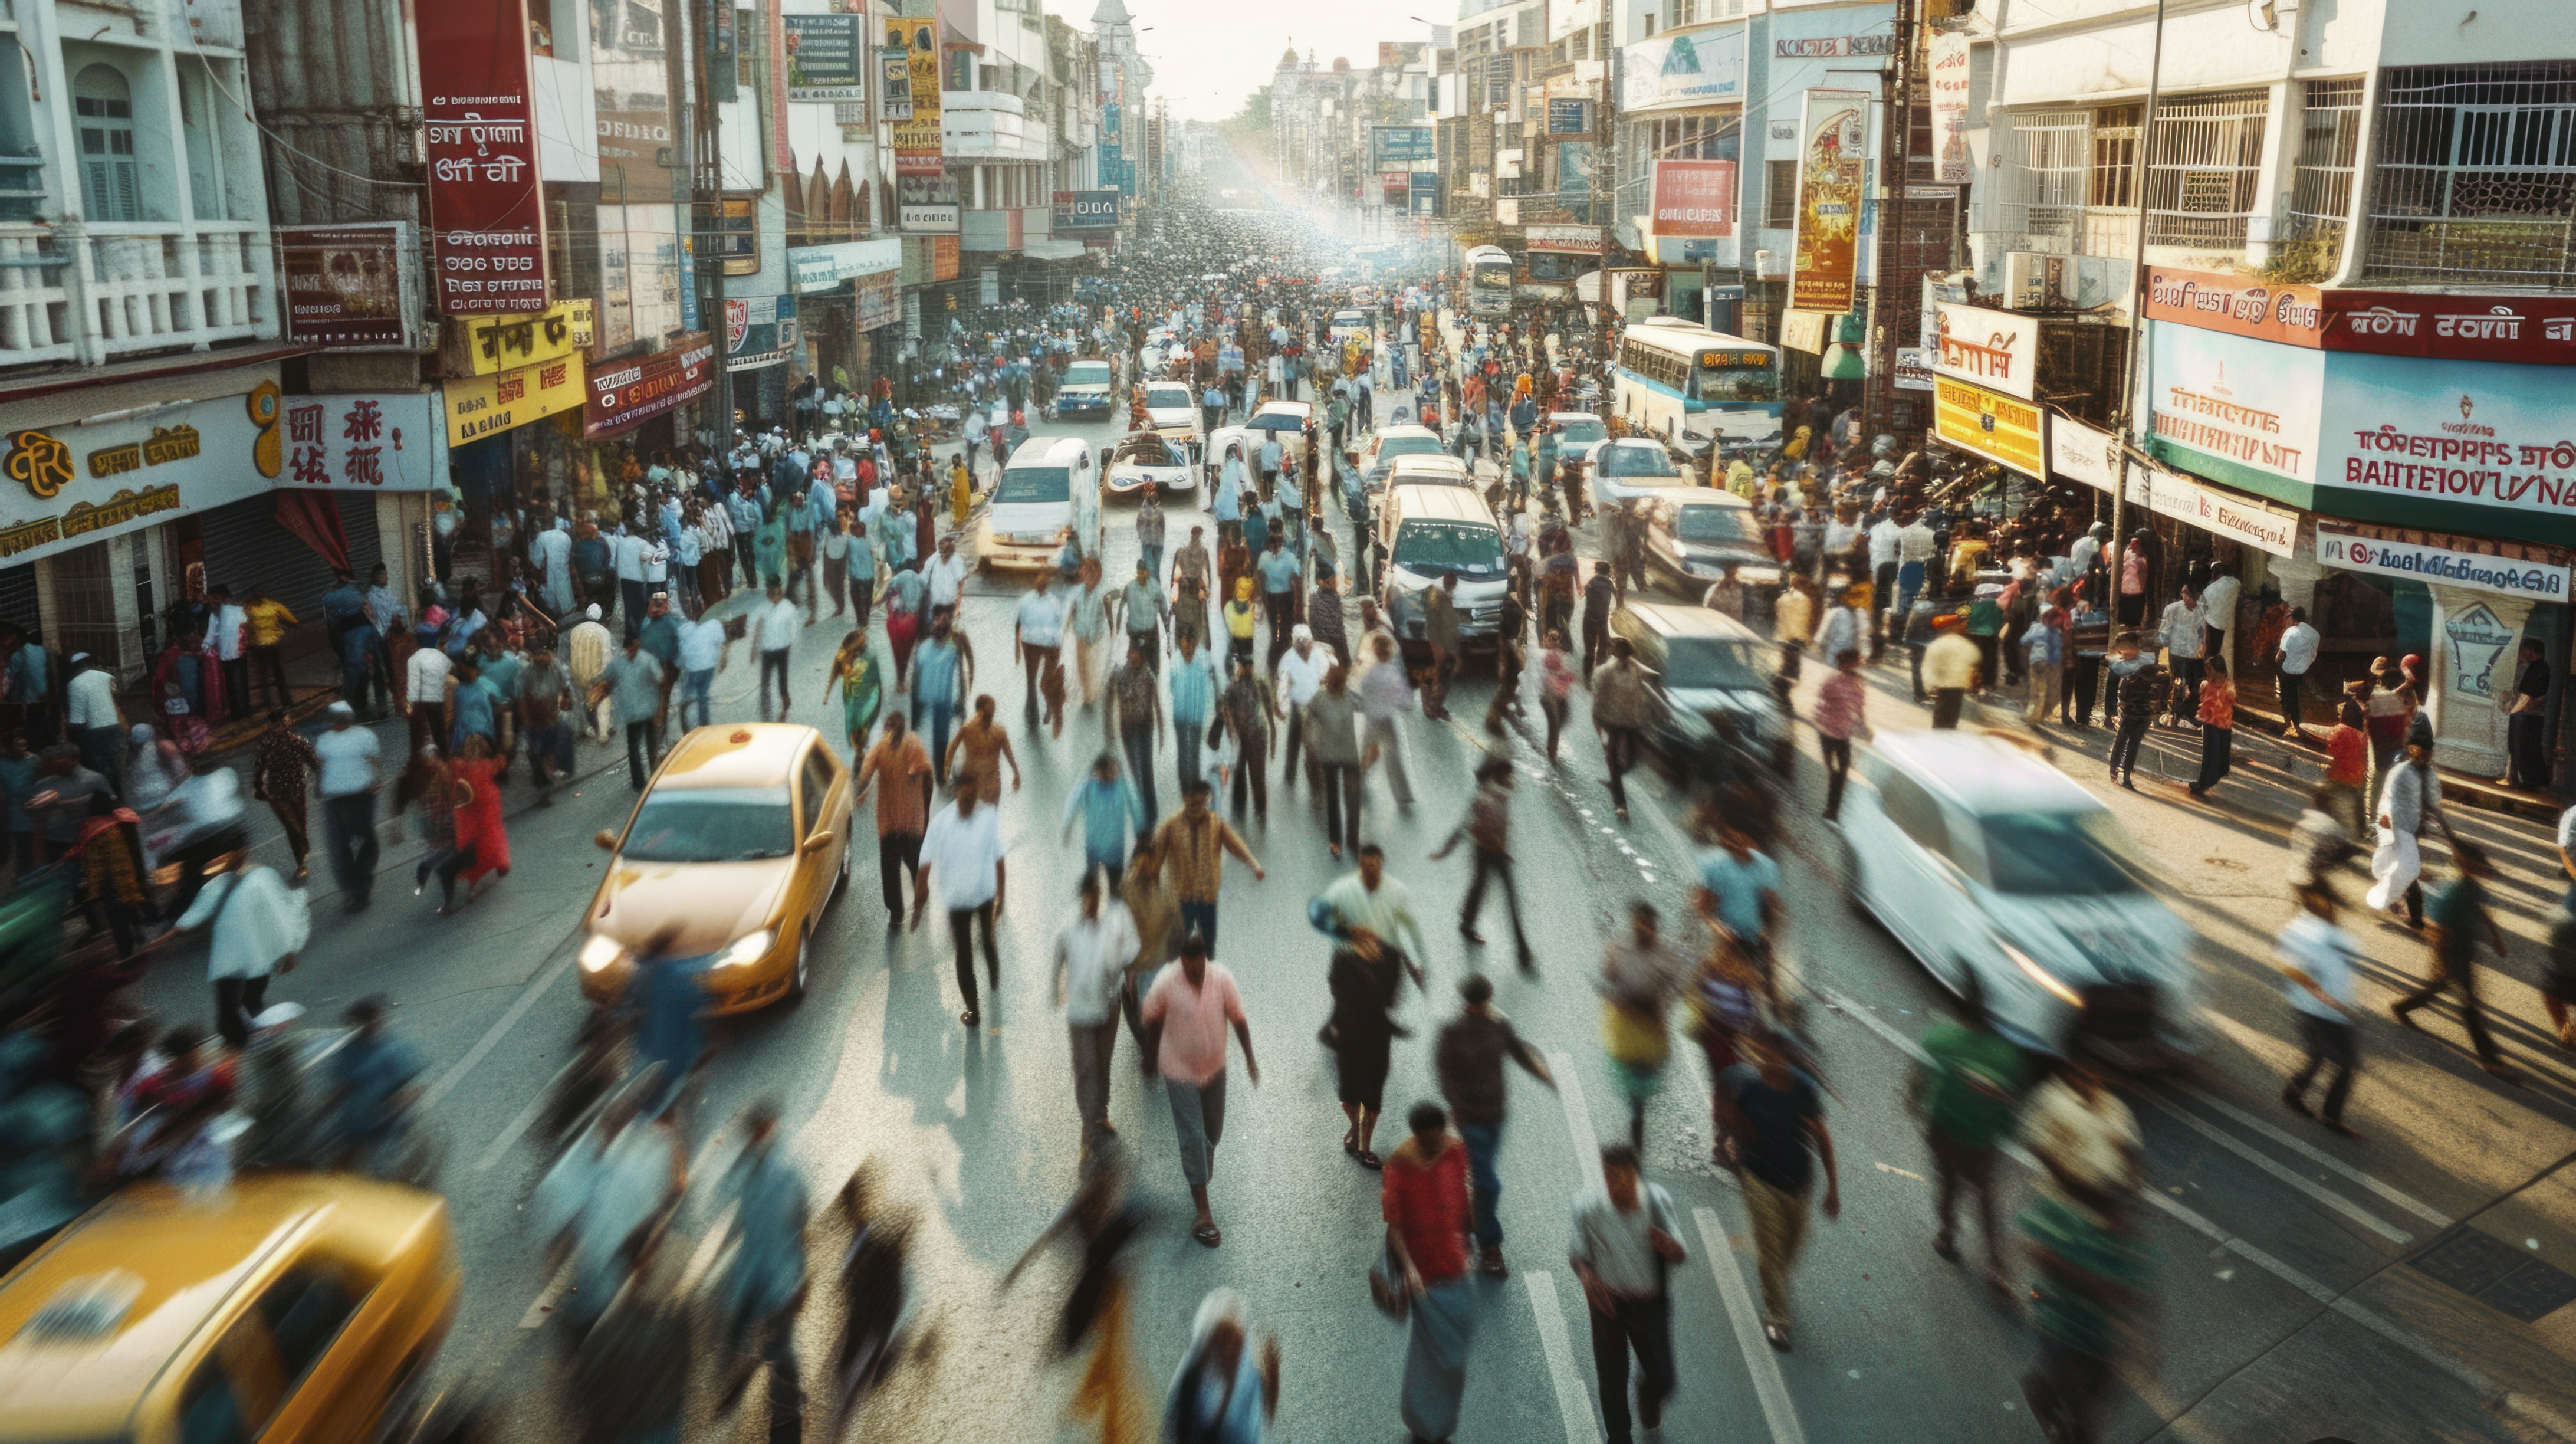bus: (1637, 306, 1776, 439)
car: (91, 1154, 468, 1444), (1880, 713, 2179, 1041), (602, 715, 843, 1006), (1601, 428, 1769, 588), (977, 439, 1125, 569), (1377, 481, 1478, 635), (1122, 383, 1197, 444), (1060, 357, 1119, 416)
pedestrians: (916, 626, 1628, 1284), (1852, 454, 2475, 954), (22, 670, 527, 1108), (544, 1091, 898, 1436), (548, 401, 902, 725)
